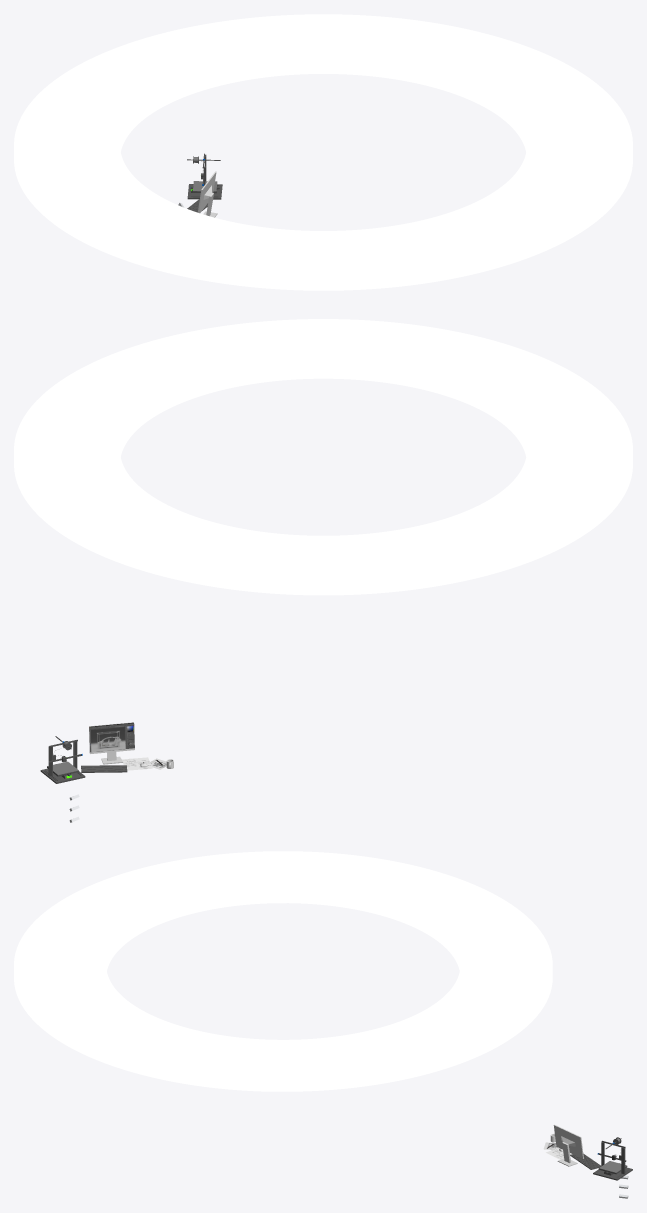
Rendered from floor-2-c.glb.
3 views of the same model, one above another, from view 1: azimuth 30°, elevation 25°; view 2: azimuth 150°, elevation 25°; view 3: azimuth 270°, elevation 25° (orthographic). The views are drawn at different scales.
Parts seen in each view (by area): view 1: lamp inside.006, custom printer.001, custom screen.001; view 2: lamp inside.006, custom screen.001, custom printer.001; view 3: lamp inside.006, custom printer.001, custom screen.001.
Part boxes in pixels (bbox=[...]): lamp inside.006: bbox=[14, 14, 632, 290]; custom printer.001: bbox=[187, 153, 222, 199]; custom screen.001: bbox=[197, 171, 217, 217]; lamp inside.006: bbox=[14, 319, 632, 595]; custom screen.001: bbox=[89, 722, 134, 764]; custom printer.001: bbox=[40, 736, 85, 783]; lamp inside.006: bbox=[14, 851, 552, 1091]; custom printer.001: bbox=[593, 1137, 632, 1180]; custom screen.001: bbox=[553, 1124, 583, 1166].
Bounding box in the file's own units: 26.98 × 11.63 × 31.
17 materials, 3 textured.
